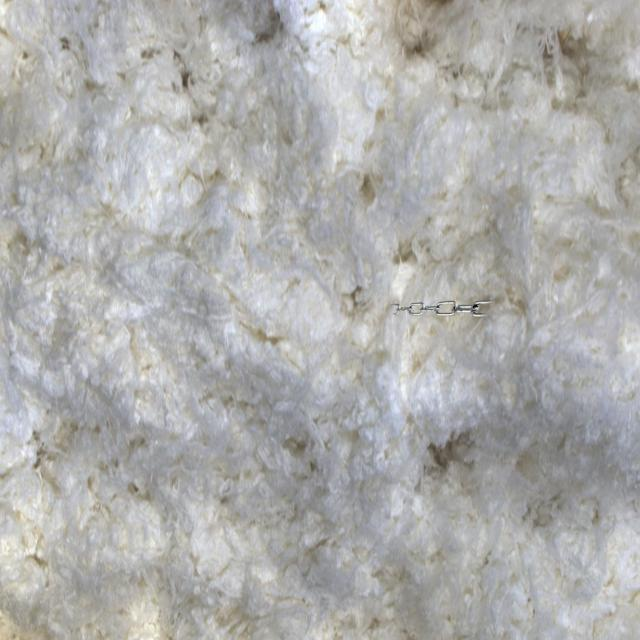dust: (381, 266, 502, 372)
